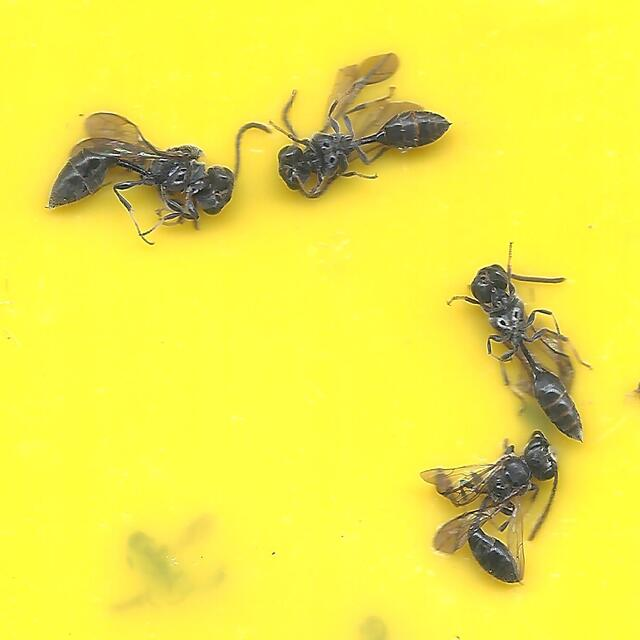Hymenoptera: (448, 245, 592, 446), (268, 54, 454, 201), (419, 430, 559, 586)
Trichoptera: (48, 110, 271, 244)
